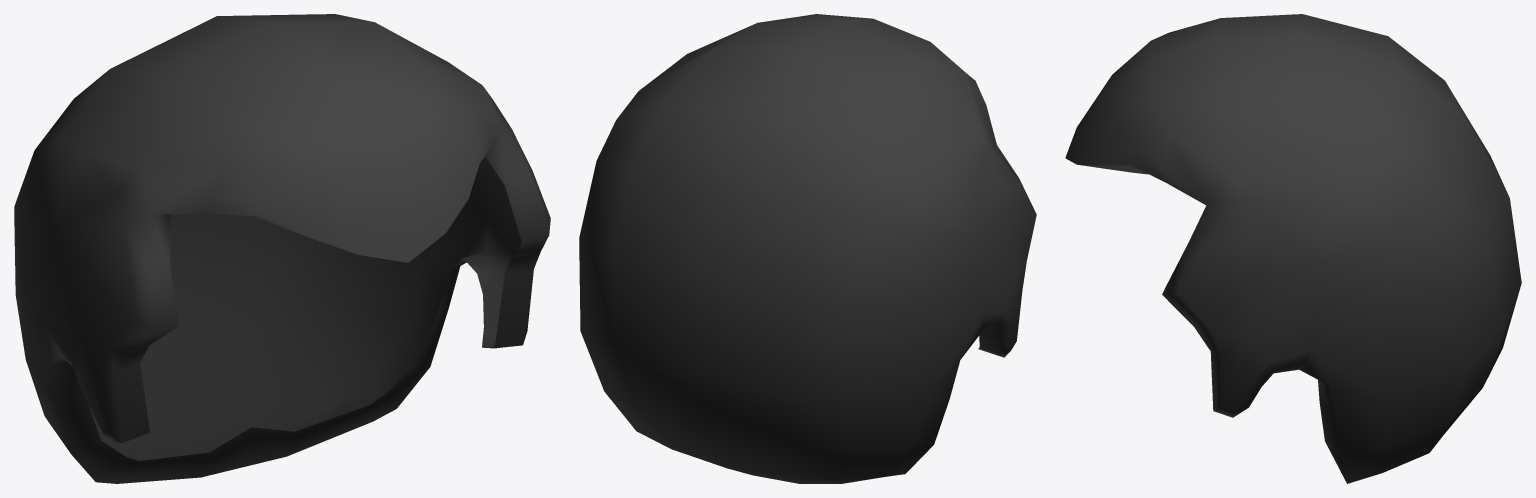
The model's file is Hair_Black_2.fbx.
The picture shows the model from 3 angles, left to right: view 1: azimuth 30°, elevation 25°; view 2: azimuth 150°, elevation 25°; view 3: azimuth 270°, elevation 25°; orthographic projection. The views are drawn at different scales.
Parts seen in each view (by area): view 1: Hair_Black_2; view 2: Hair_Black_2; view 3: Hair_Black_2.
Boxes of the visible parts, x1,y1,x2,y2 form: Hair_Black_2: (14,14,550,483); Hair_Black_2: (579,14,1036,483); Hair_Black_2: (1065,14,1521,483).
Size of the model in its own units: 52.84 by 52.69 by 53.88.
